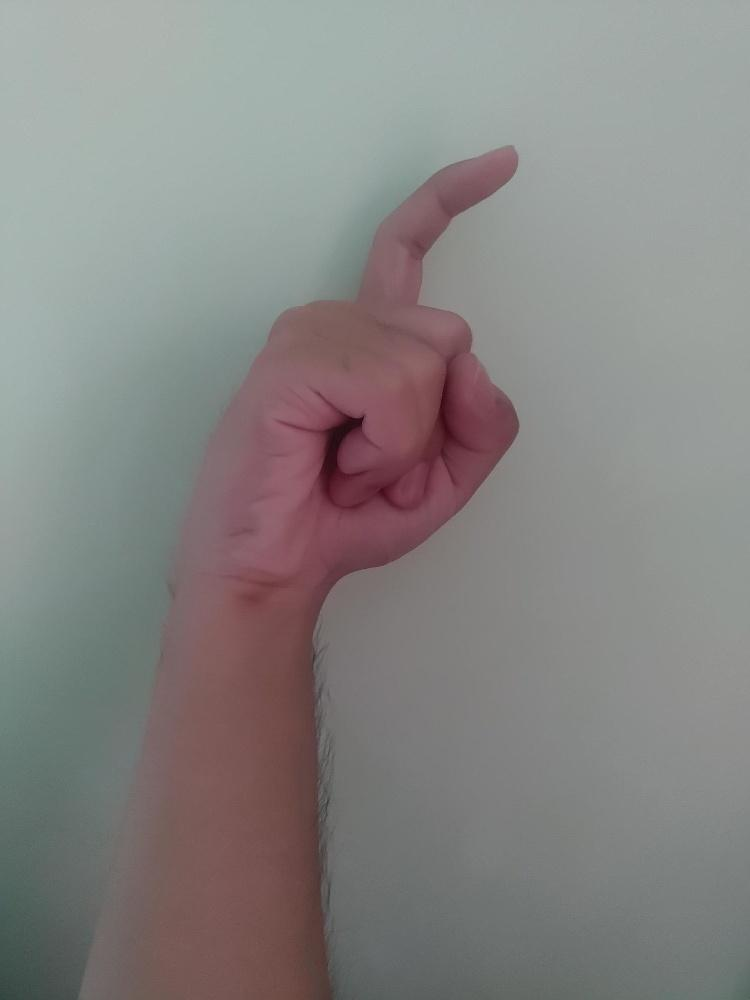x: (205, 140, 524, 576)
